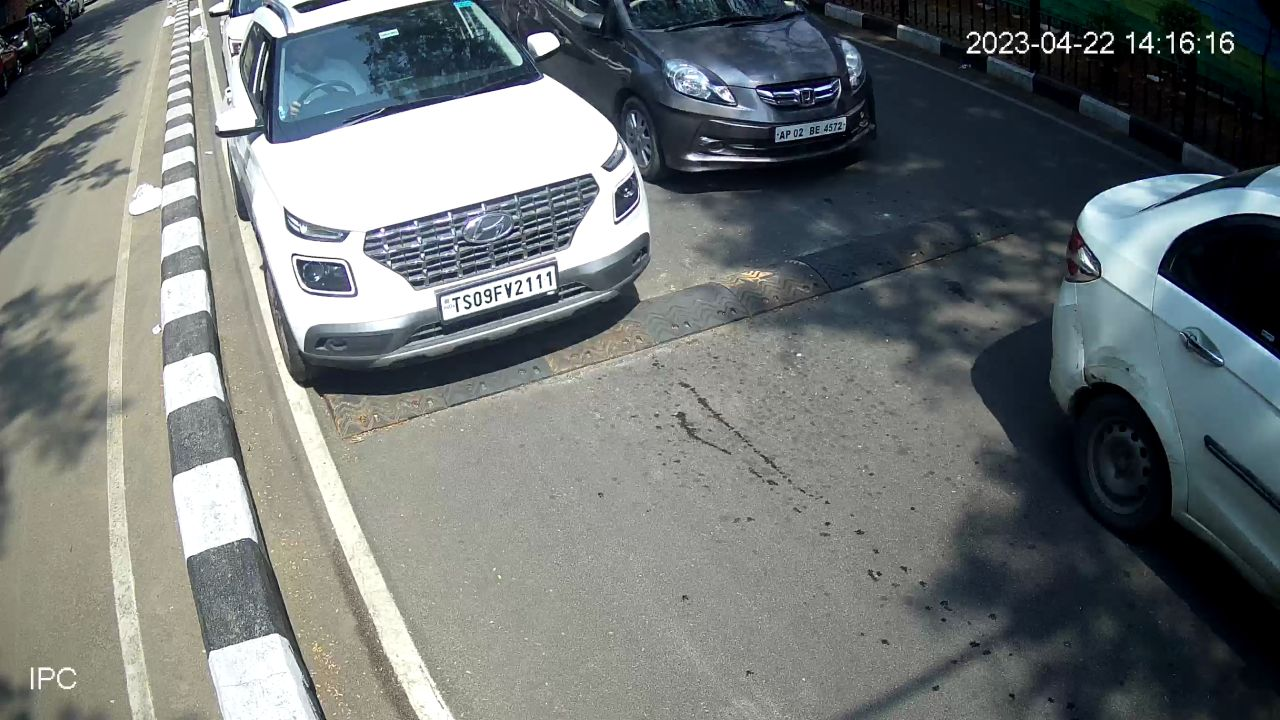license_plate: (435, 259, 559, 330), (769, 112, 852, 146)
